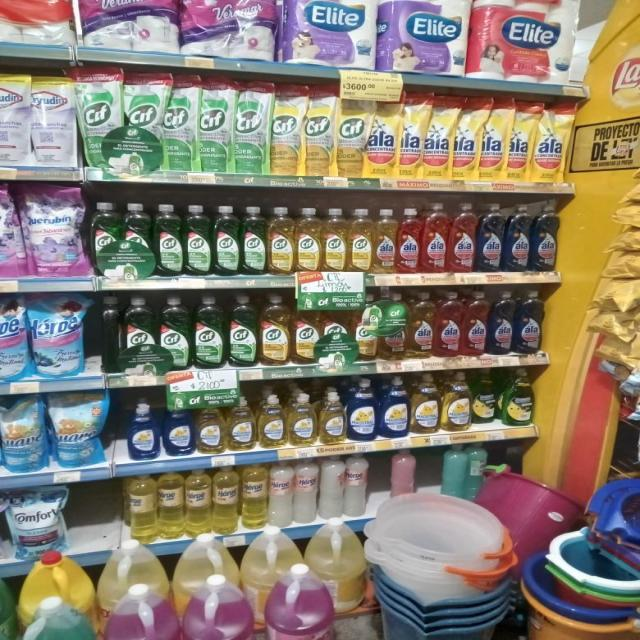ala_conc_amarillo: (380, 291, 407, 361), (408, 291, 434, 360), (374, 208, 396, 274)
ala_conc_azul: (532, 201, 560, 273), (515, 289, 544, 355), (504, 203, 531, 273), (477, 202, 504, 272), (489, 290, 514, 356)
ala_conc_rojo: (449, 202, 476, 273), (421, 203, 448, 274), (435, 291, 462, 358), (462, 290, 488, 357), (397, 207, 420, 274)
ala_sachet_amarillo: (366, 94, 397, 178), (533, 104, 566, 182), (423, 94, 452, 180), (453, 96, 479, 180), (480, 98, 506, 181), (398, 93, 423, 178), (507, 101, 532, 181)
cif_conc_bot_amarilla: (321, 294, 354, 366), (260, 294, 291, 366), (292, 295, 320, 365), (268, 206, 294, 275), (295, 206, 322, 272), (354, 292, 379, 362), (323, 207, 347, 272), (348, 208, 372, 272)
cif_conc_botella_verde: (119, 296, 157, 374), (158, 296, 192, 371), (192, 296, 225, 370), (121, 202, 152, 279), (90, 201, 120, 278), (228, 294, 258, 368), (154, 203, 182, 277), (184, 204, 211, 277), (212, 205, 239, 276), (240, 206, 266, 276)
cif_conc_sachet_amarillo: (270, 84, 302, 176), (304, 84, 334, 178), (336, 90, 365, 178)
cif_conc_sachet_verde: (80, 66, 123, 172), (124, 70, 162, 174), (196, 75, 231, 174), (232, 80, 268, 174), (163, 74, 196, 172)
heroe: (212, 465, 239, 535), (157, 470, 184, 540), (240, 463, 268, 530), (185, 468, 211, 536), (344, 452, 369, 518), (268, 460, 292, 528), (294, 458, 318, 524)
magistral_con_amarillo: (441, 372, 471, 432), (411, 372, 440, 434), (227, 396, 256, 452), (196, 401, 225, 454), (288, 392, 316, 446), (258, 394, 286, 448), (318, 390, 345, 444)
magistral_con_azul: (126, 402, 160, 460), (348, 378, 377, 442), (163, 398, 194, 457), (380, 376, 409, 438)
magistral_con_verde: (501, 367, 537, 426), (472, 368, 499, 427)
